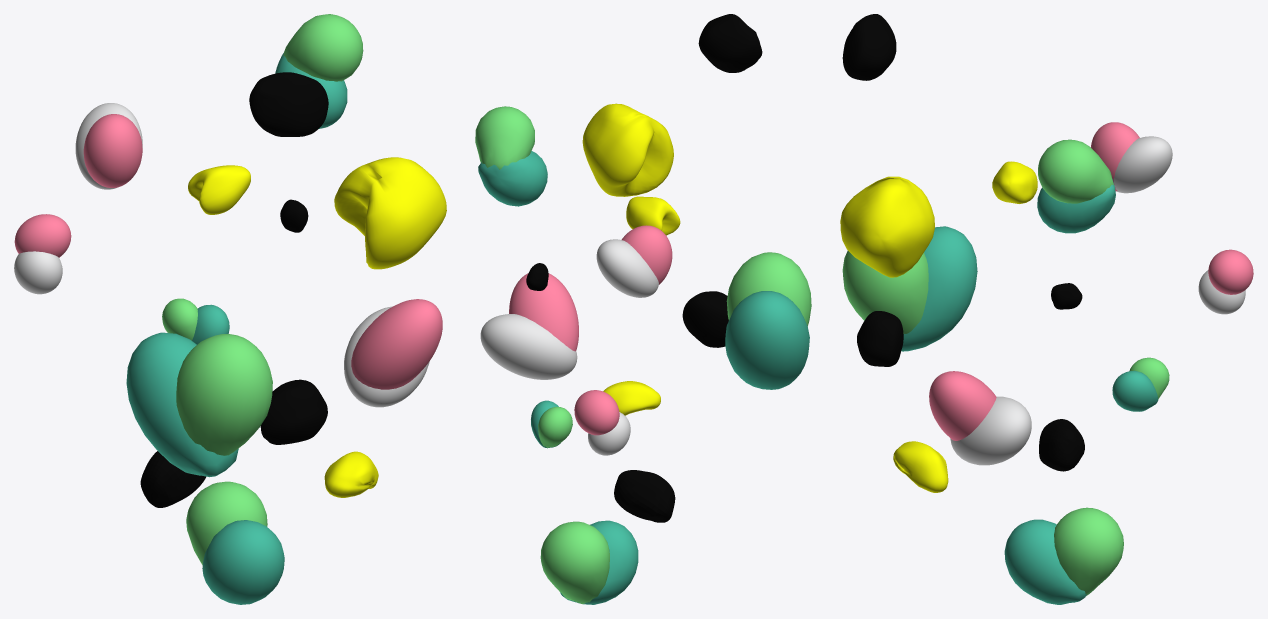
File: asset.glb
3 views of the same model, side by side, from view 1: azimuth 30°, elevation 25°; view 2: azimuth 150°, elevation 25°; view 3: azimuth 270°, elevation 25° (orthographic). The views are drawn at different scales.
Parts seen in each view (by area): view 1: Sphere.008, Sphere.011, Sphere.007, Sphere.004, Sphere.005, Sphere.016, Sphere.010, Sphere.020, Sphere.006, Sphere.013, Sphere.012, Sphere.015 (+9 smaller); view 2: Sphere.007, Sphere.011, Sphere.006, Sphere.003, Sphere.008, Sphere.004, Sphere.010, Sphere.016, Sphere.009, Sphere.015, Sphere.019, Sphere.005 (+9 smaller); view 3: Sphere.011, Sphere.007, Sphere.006, Sphere.005, Sphere.008, Sphere.010, Sphere.003, Sphere.004, Sphere.016, Sphere.019, Sphere.009, Sphere.013 (+9 smaller).
Boxes of the visible parts, x1,y1,x2,y2 form: Sphere.008: (176,334,272,455); Sphere.011: (334,157,446,269); Sphere.007: (126,332,238,477); Sphere.004: (351,299,442,389); Sphere.005: (202,520,284,604); Sphere.016: (249,72,328,136); Sphere.010: (283,14,363,81); Sphere.020: (83,114,142,187); Sphere.006: (186,481,267,564); Sphere.013: (260,379,327,444); Sphere.012: (188,165,250,214); Sphere.015: (140,451,205,507); Sphere.007: (725,291,809,389); Sphere.011: (582,103,673,196); Sphere.006: (540,521,609,604); Sphere.003: (480,314,577,379); Sphere.008: (726,252,811,326); Sphere.004: (509,273,578,351); Sphere.010: (475,106,534,169); Sphere.016: (698,14,762,72); Sphere.009: (478,151,547,206); Sphere.015: (614,470,675,522); Sphere.019: (596,239,658,297); Sphere.005: (560,520,638,604); Sphere.011: (840,176,934,277); Sphere.007: (901,226,977,351); Sphere.006: (1054,507,1123,595); Sphere.005: (1004,519,1086,604); Sphere.008: (842,250,928,333); Sphere.010: (1038,139,1113,203); Sphere.003: (950,396,1031,465); Sphere.004: (929,371,996,440); Sphere.016: (842,14,896,80); Sphere.019: (1113,136,1172,193); Sphere.009: (1037,178,1115,233); Sphere.013: (857,311,903,366).
Bounding box in the file's own units: 16.15 × 28.81 × 19.35.
